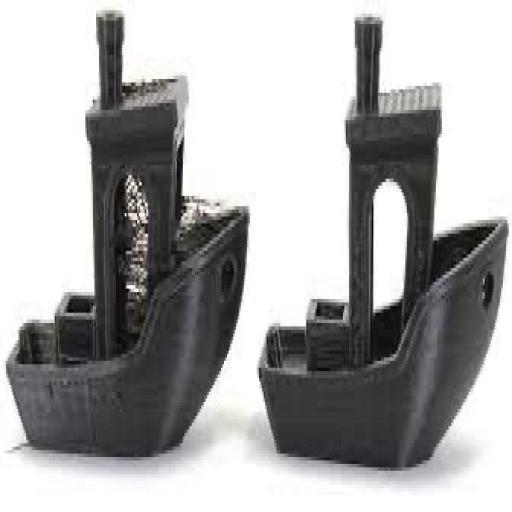stringing: (125, 176, 148, 294)
